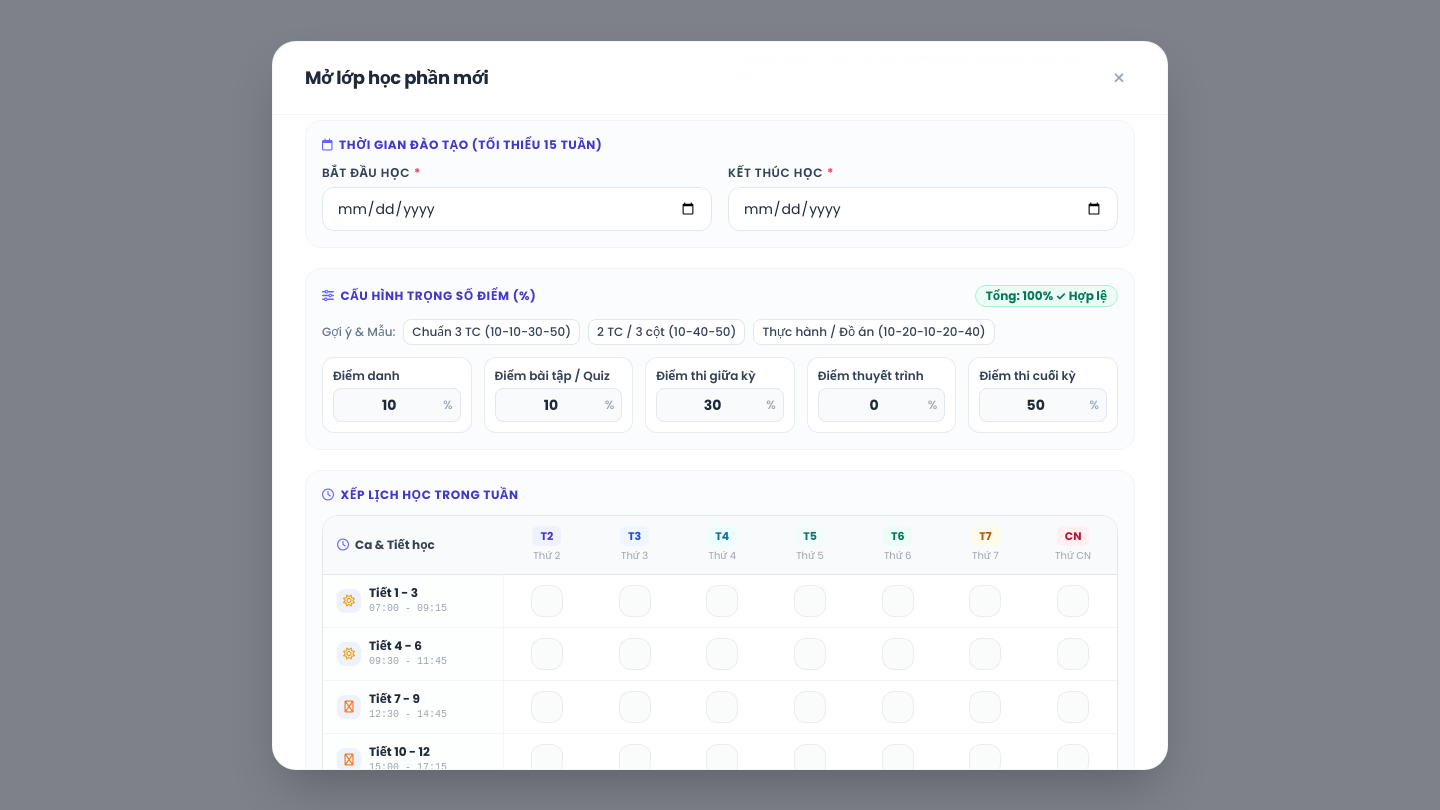
Test: ClassFormModal registration date-time picker & validation › validates grade weights sum to 100% and displays error message if sum is not 100%
The image size is (1440, 810).
(page scrolled)
Replace the text in the number field named "Trọng số Điểm danh" with "30": (397,405) x1=333 y1=388 x2=461 y2=422
(page scrolled)
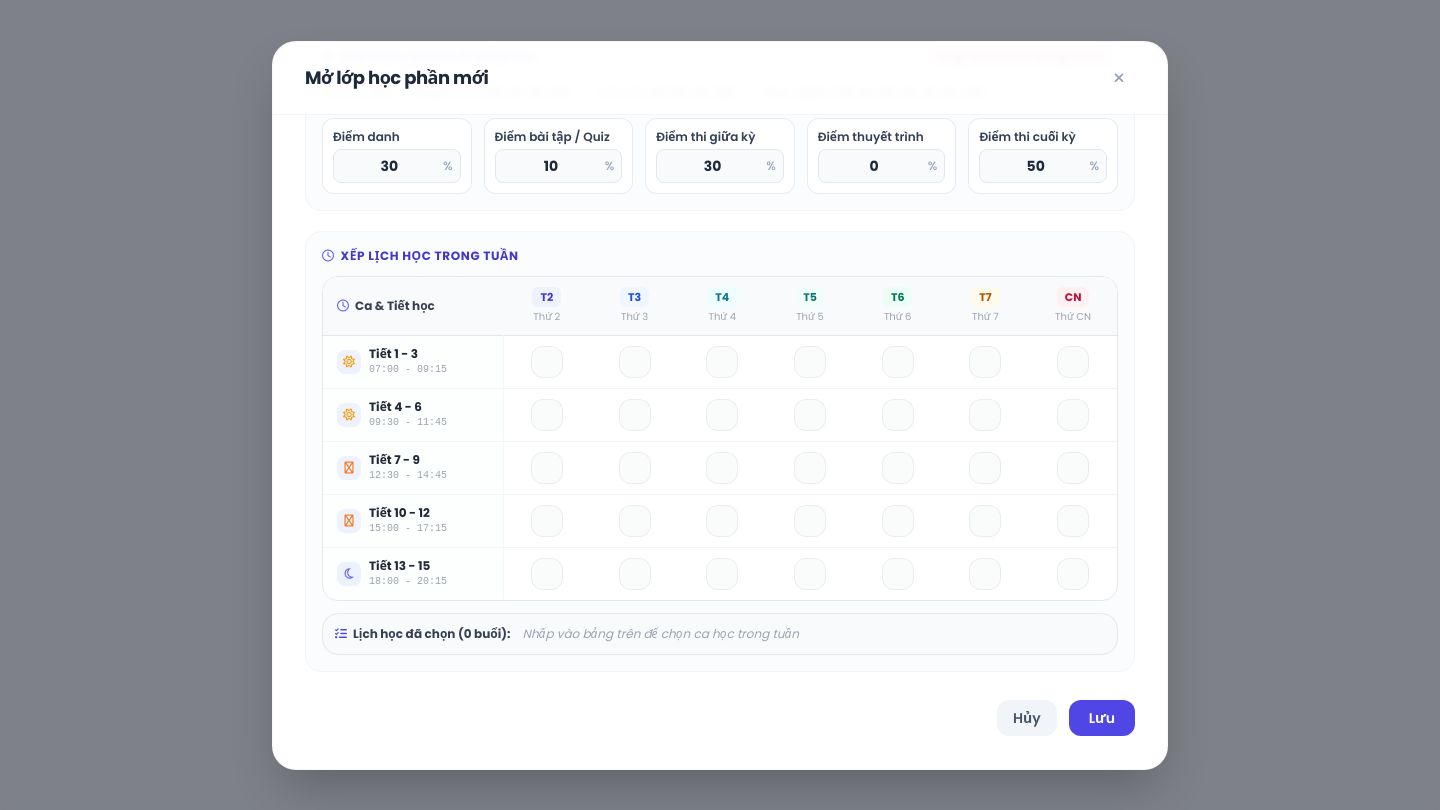
Click the button "Lưu": (1102,718) x1=1069 y1=700 x2=1135 y2=736
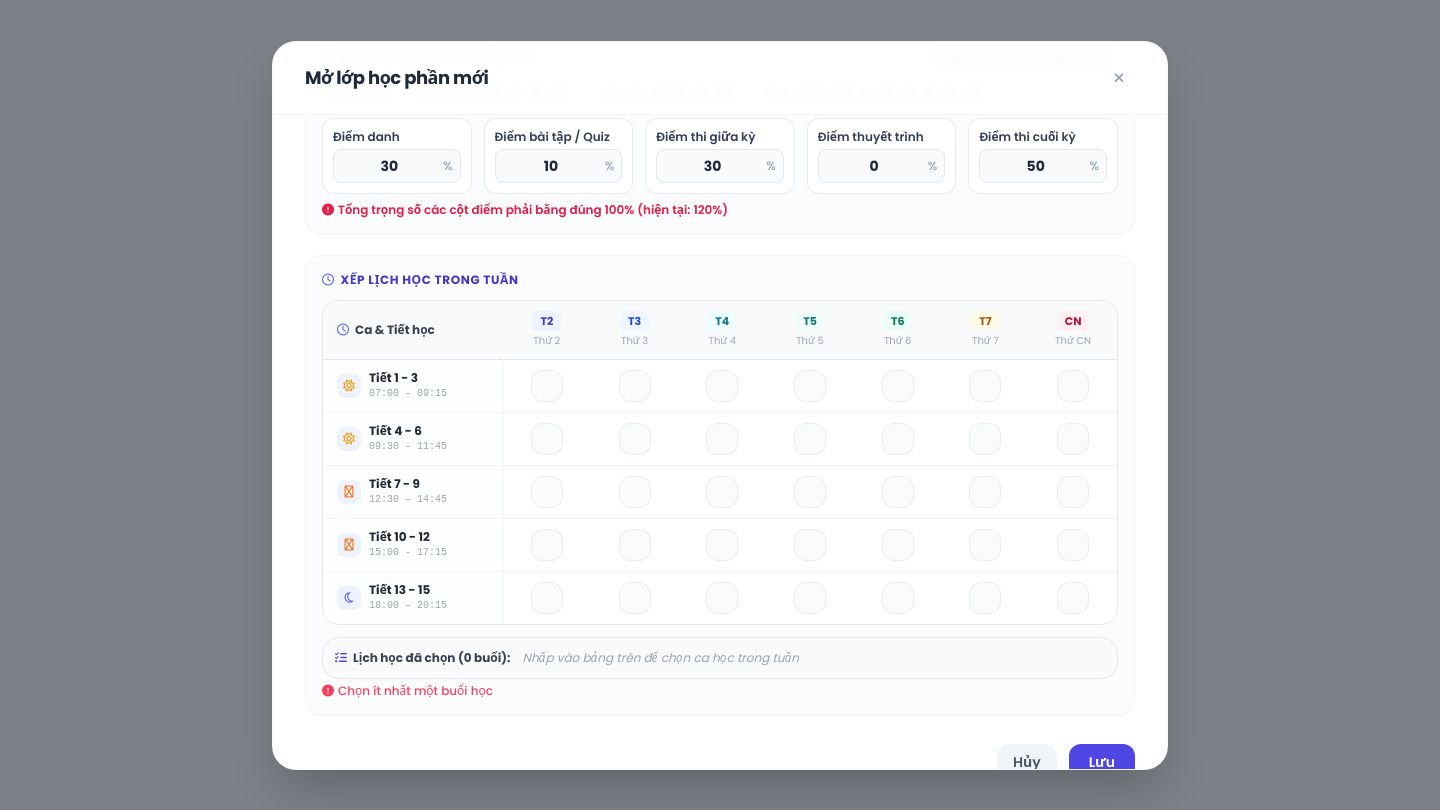
Now the text "Tổng trọng số các cột điểm phải bằng đúng 100%" is shown, box x1=338 y1=201 x2=728 y2=218
